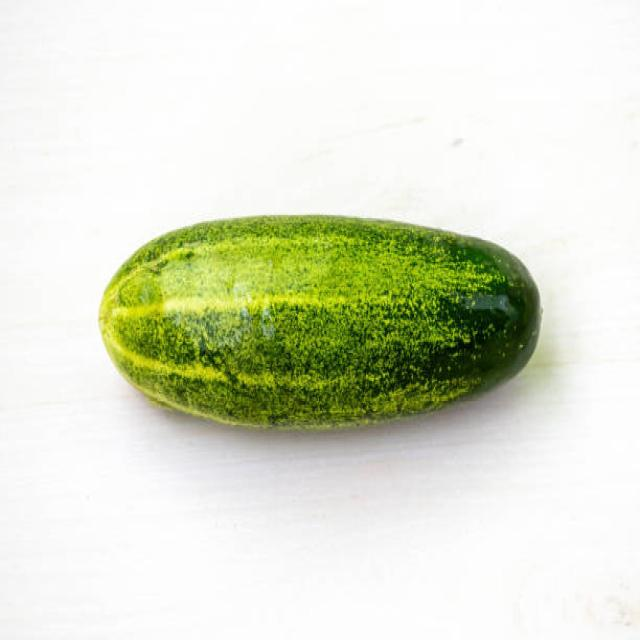cucumber: (98, 212, 542, 429)
